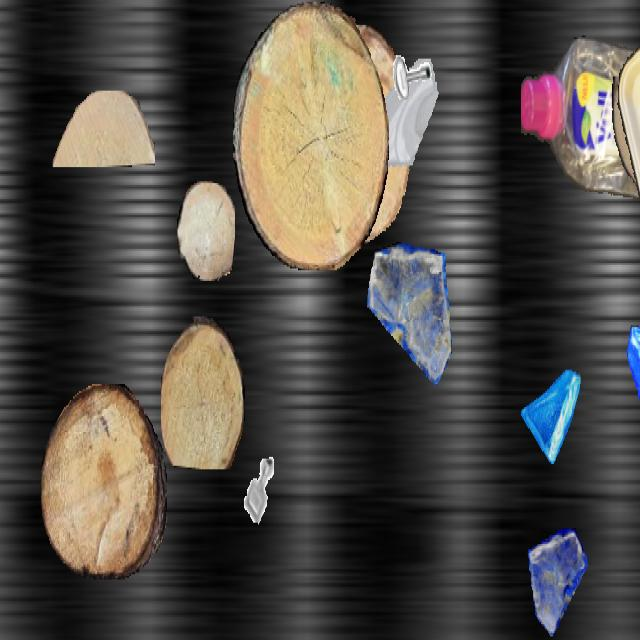glass: (367, 242, 451, 391), (367, 58, 443, 194), (527, 528, 589, 638), (520, 357, 580, 464), (619, 326, 640, 460)
metal: (382, 2, 436, 98), (234, 444, 286, 537), (632, 176, 640, 265)
plastic: (521, 32, 640, 224), (615, 2, 640, 318)
wood: (233, 2, 389, 268), (293, 25, 411, 245), (41, 384, 167, 580), (161, 316, 245, 469), (52, 91, 154, 165), (177, 181, 235, 281), (611, 76, 640, 198)
